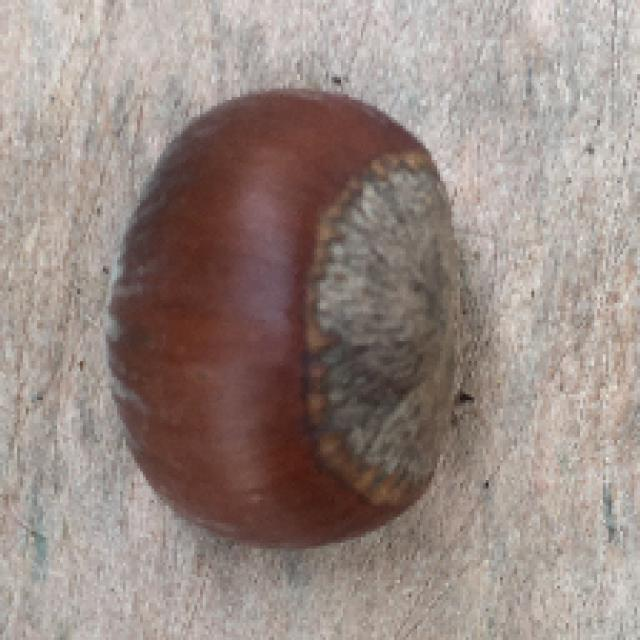damagedHazelnut: (97, 81, 476, 556)
